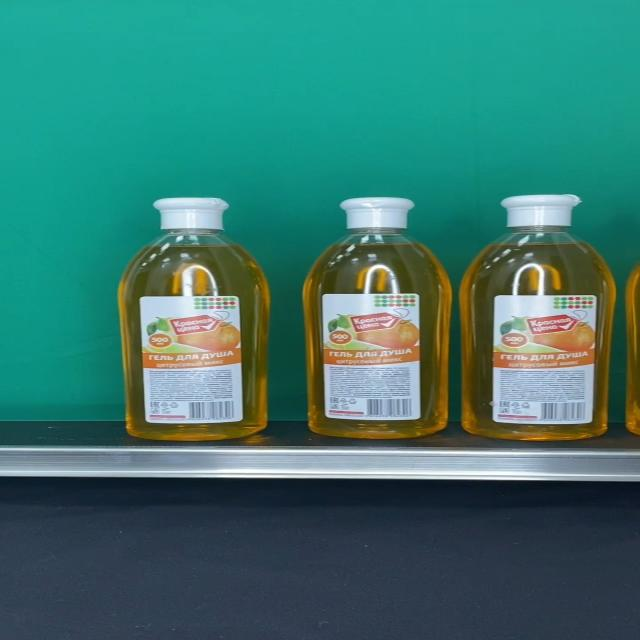Bottle: (460, 194, 617, 440), (119, 198, 269, 441), (304, 197, 452, 439)
Cap: (501, 194, 583, 228), (151, 197, 229, 230), (339, 197, 416, 230)
